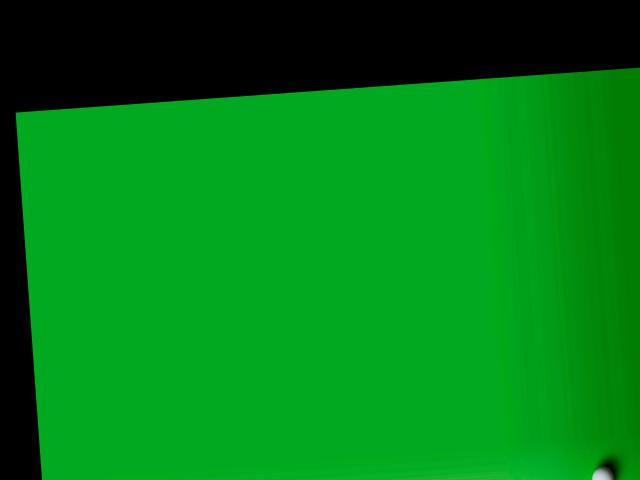egg: (591, 465, 614, 480)
